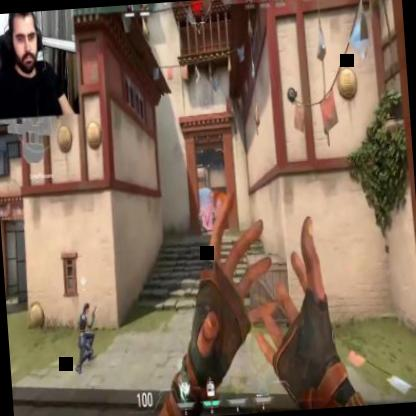enemy: (209, 207, 218, 230), (198, 209, 206, 233)
enemy_head: (199, 209, 202, 212), (213, 208, 214, 210)
